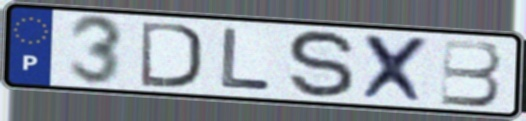3: (66, 11, 126, 91)
B: (438, 37, 504, 109)
D: (138, 19, 205, 90)
L: (217, 26, 275, 94)
S: (285, 28, 359, 101)
X: (358, 32, 436, 106)
